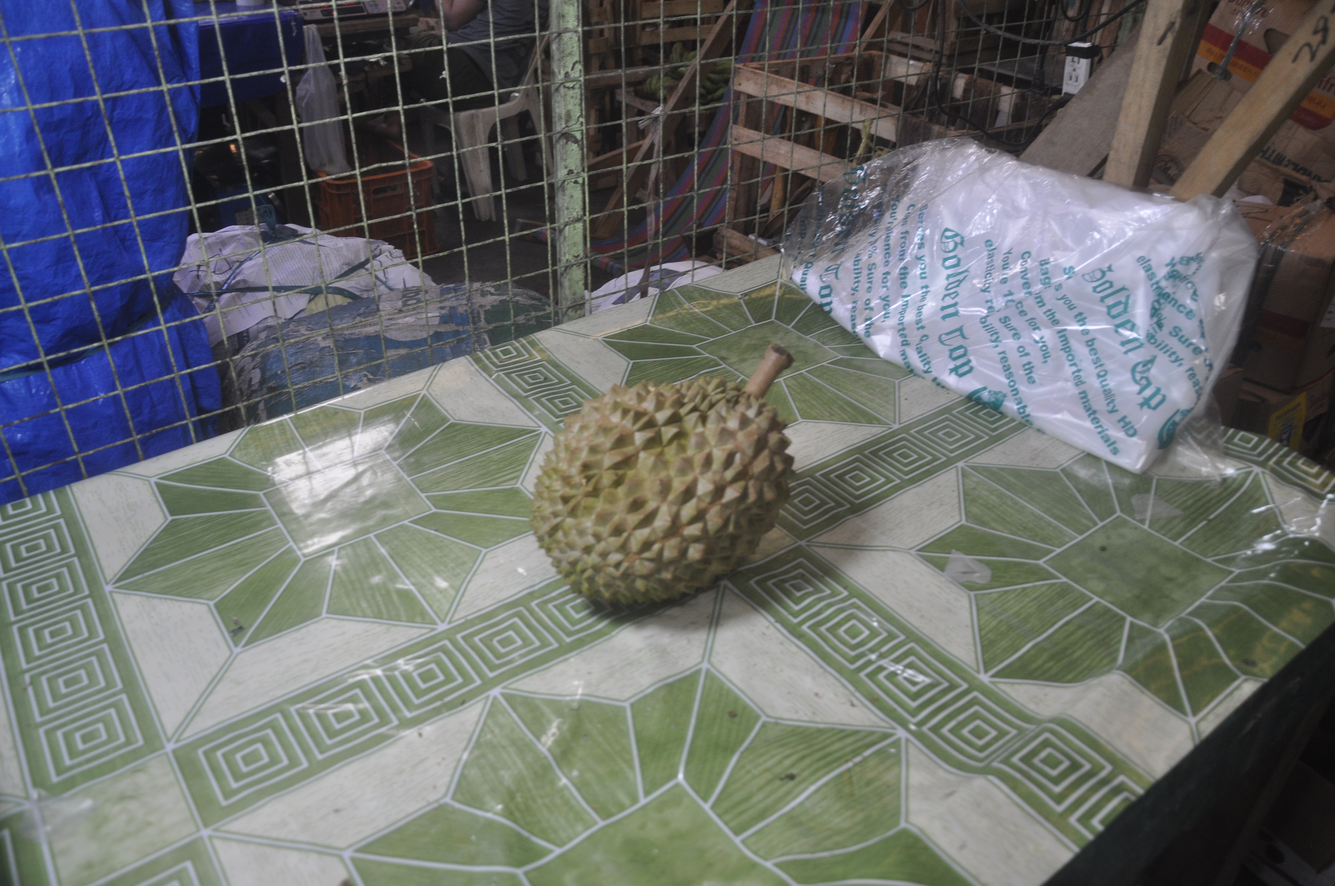mature: (531, 345, 794, 604)
